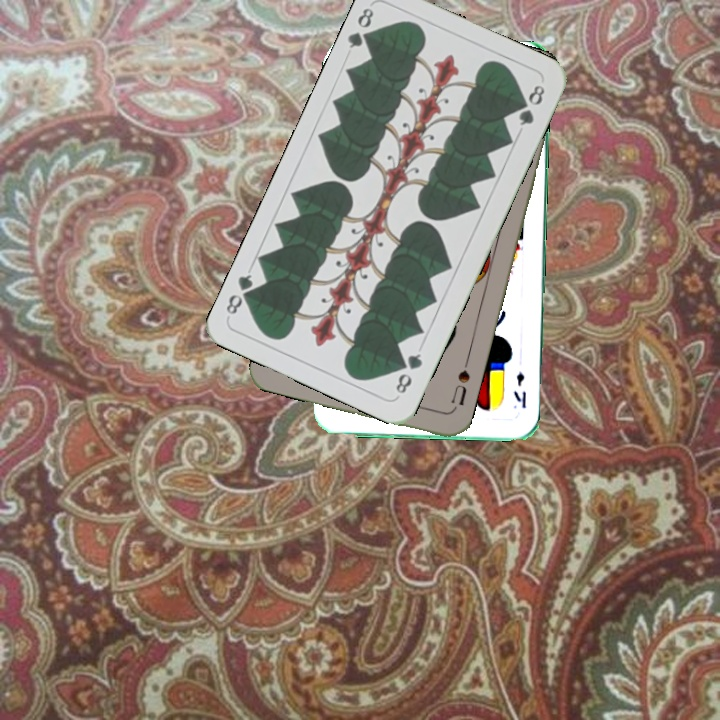EK: (509, 368, 529, 411)
G8: (391, 349, 425, 397), (344, 3, 378, 51)
SU: (447, 366, 473, 414)
